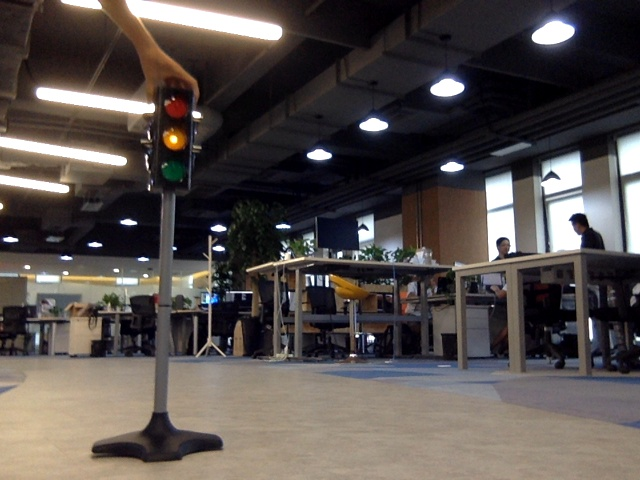yellow: (155, 93, 190, 189)
